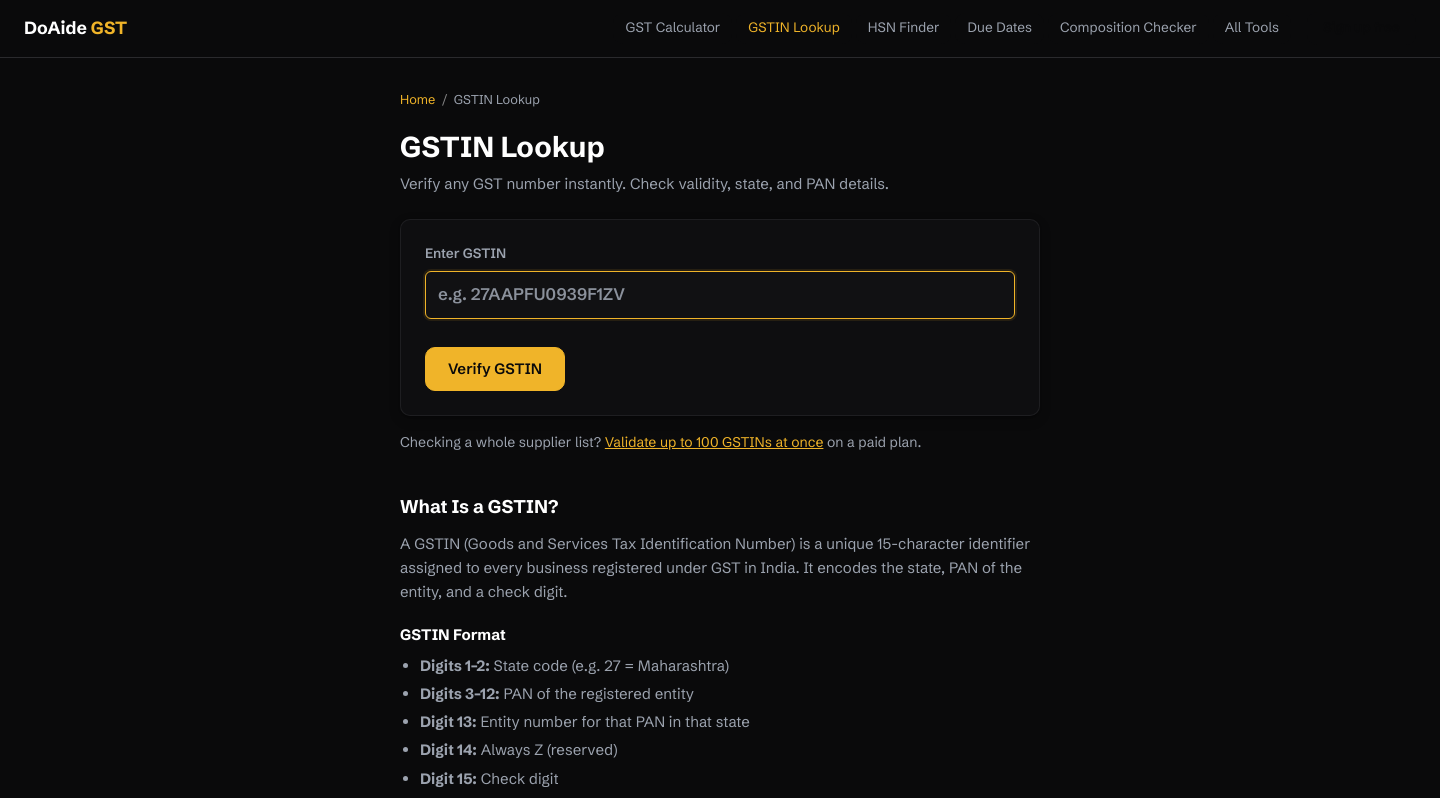
Test: LookupPage › does not leave the last verdict up while, or after, checking another number
The image size is (1440, 798).
Type "27AAPFU0939F1ZV" into the field with placeholder "e.g. 27AAPFU0939F1ZV".
click(720, 295); type("27AAPFU0939F1ZV")  # box [425, 271, 1015, 319]
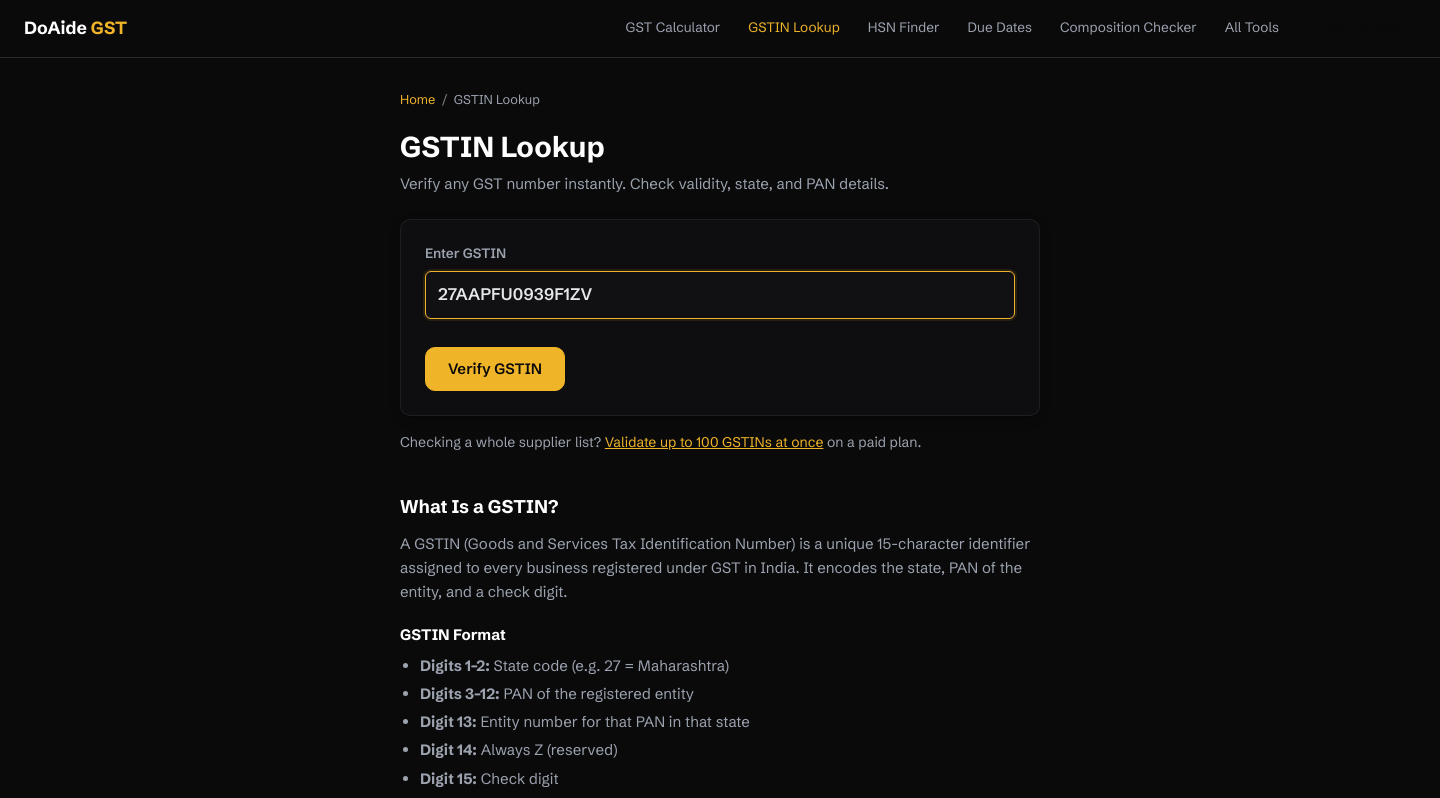
Click the button "Verify GSTIN".
click(495, 369)  # box [425, 347, 565, 391]
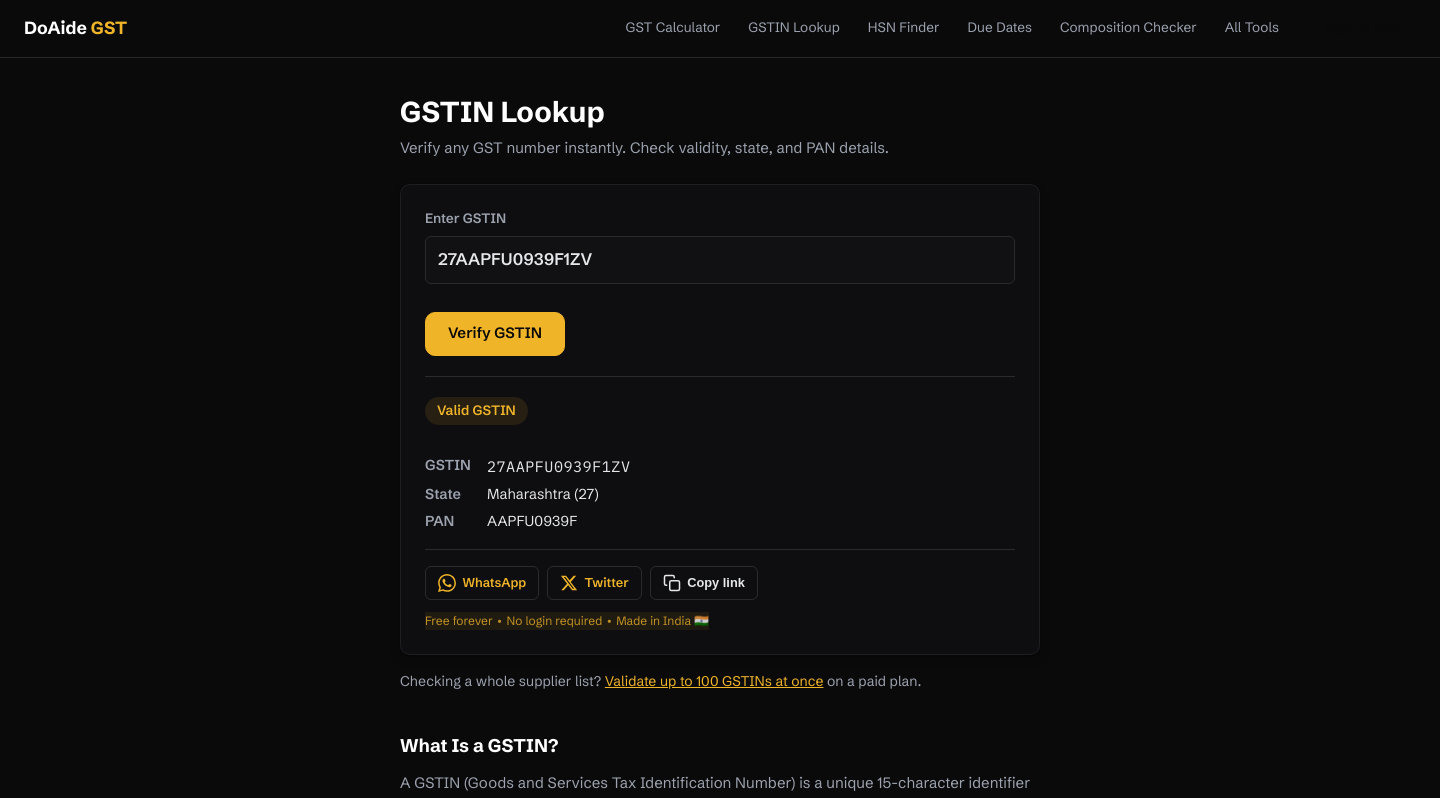
Result: the text "Valid GSTIN" is shown at [425, 397, 528, 425]
Replace the text in the field with placeholder "e.g. 27AAPFU0939F1ZV" with "29AAACB1234C1Z5" at (720, 260), box [425, 236, 1015, 284]
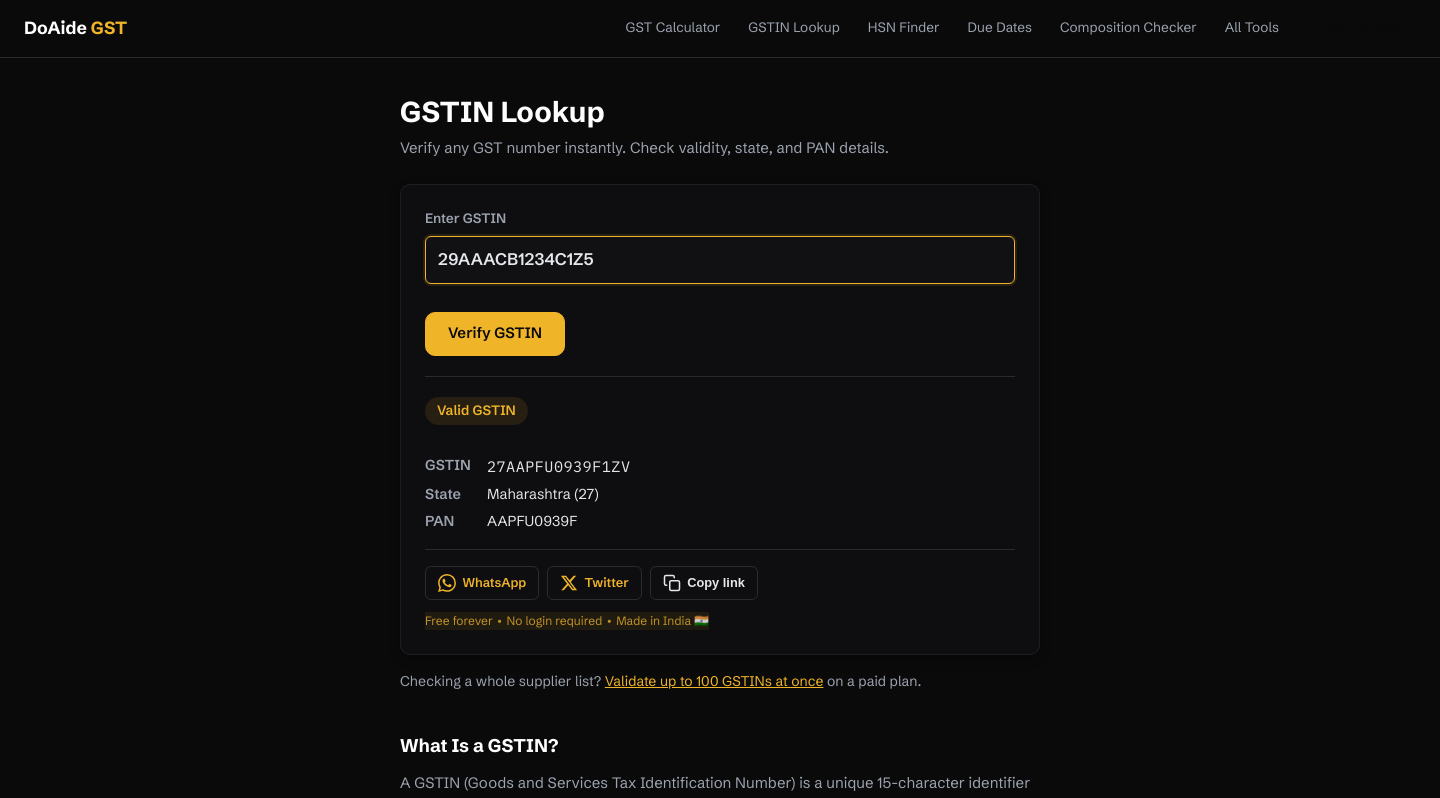
Click the button "Verify GSTIN".
click(495, 334)  # box [425, 312, 565, 356]
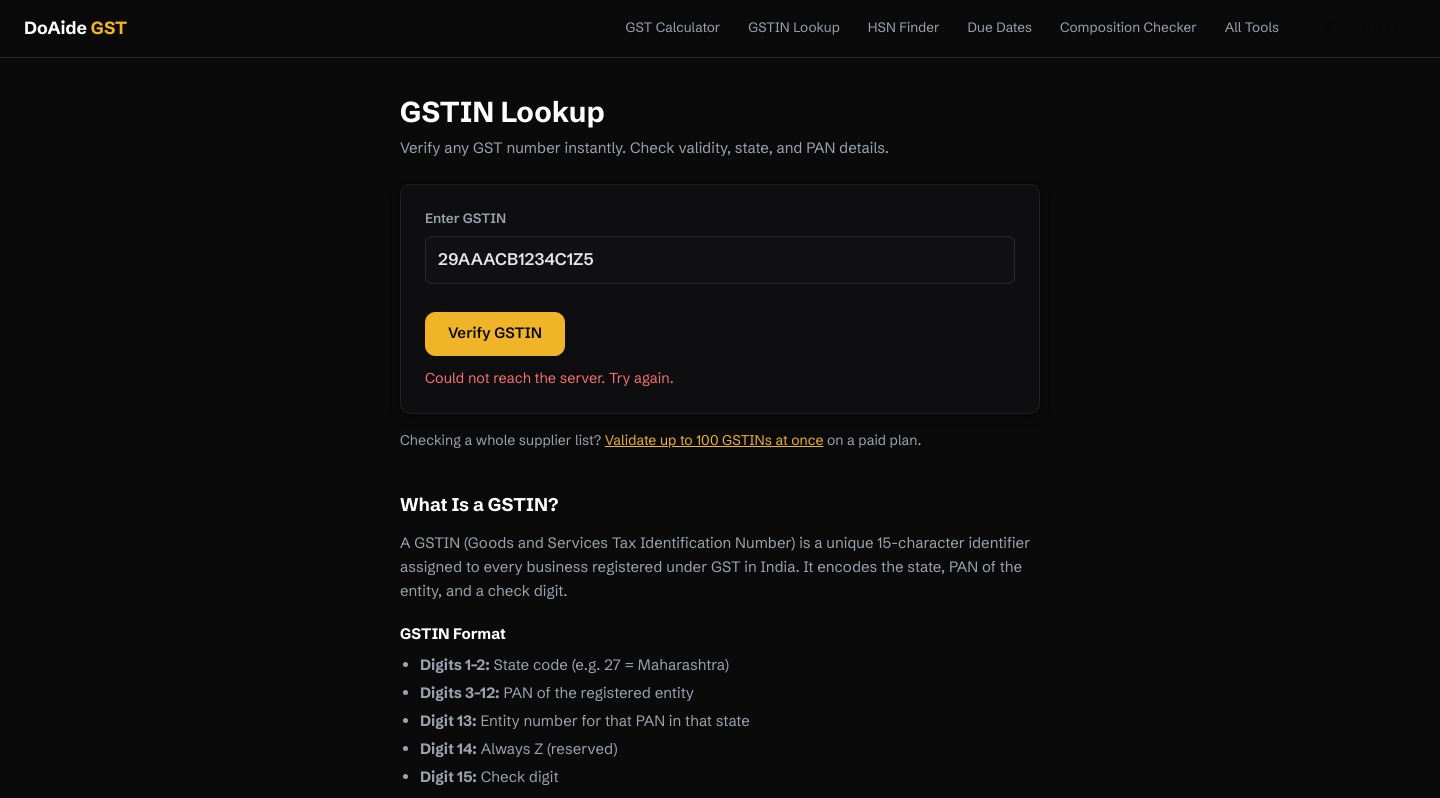
Result: the text "Could not reach the server. Try again." is shown at [425, 369, 674, 387]
Result: the text "Valid GSTIN" is gone
